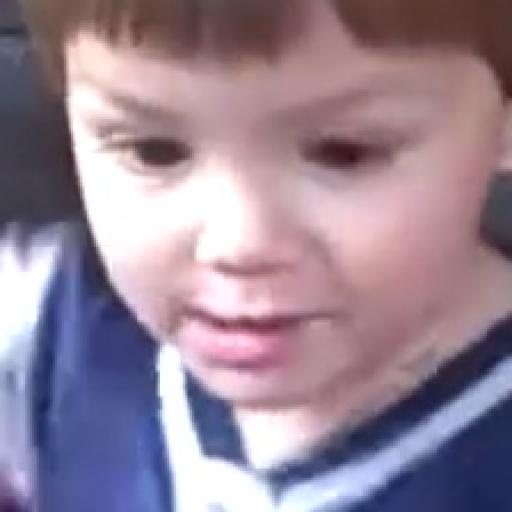Autism: (45, 2, 512, 438)
